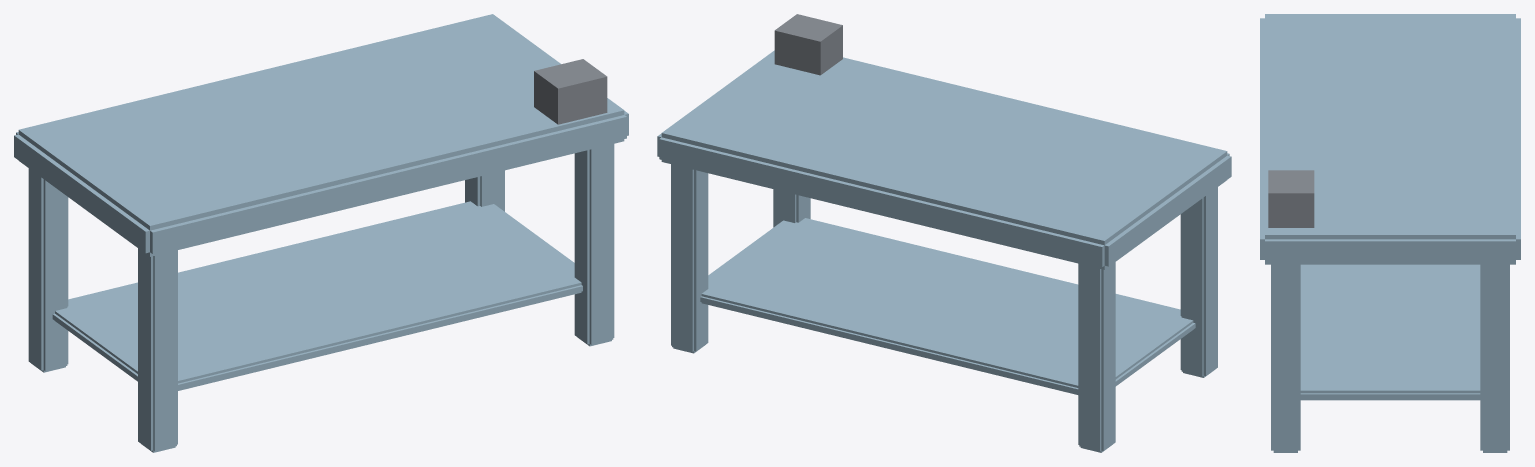
File: glass_workbench_v0.glb
3 renders of one model, left to right at view 1: azimuth 30°, elevation 25°; view 2: azimuth 150°, elevation 25°; view 3: azimuth 270°, elevation 25°, orthographic. The views are drawn at different scales.
Parts seen in each view (by area): view 1: glass_workbench_v0; view 2: glass_workbench_v0; view 3: glass_workbench_v0.
Boxes of the visible parts, bbox=[...] form: glass_workbench_v0: bbox=[14, 14, 628, 452]; glass_workbench_v0: bbox=[657, 14, 1231, 452]; glass_workbench_v0: bbox=[1260, 14, 1520, 452].
Bounding box in the file's own units: 1.96 × 1.04 × 0.96.
